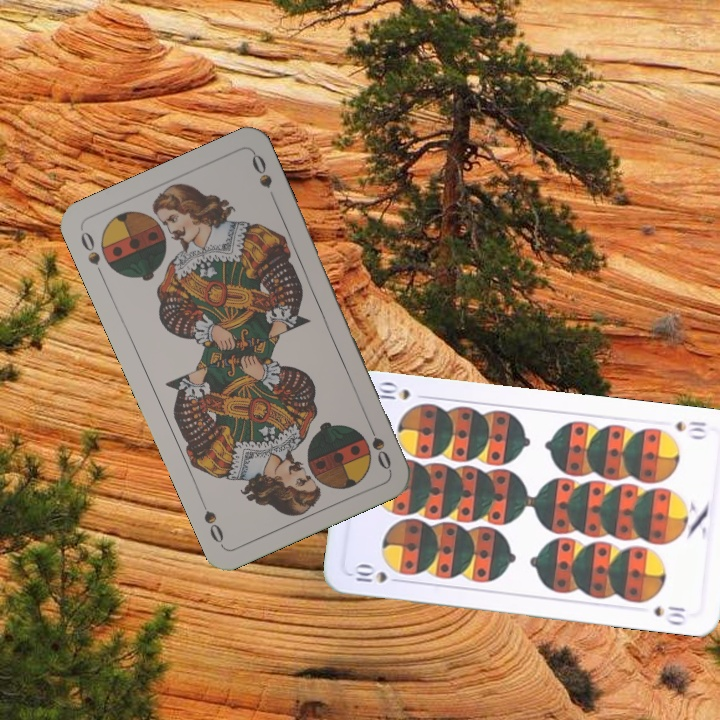S10: (350, 562, 406, 586), (672, 417, 710, 442)
SO: (362, 416, 394, 473), (76, 227, 107, 282)
